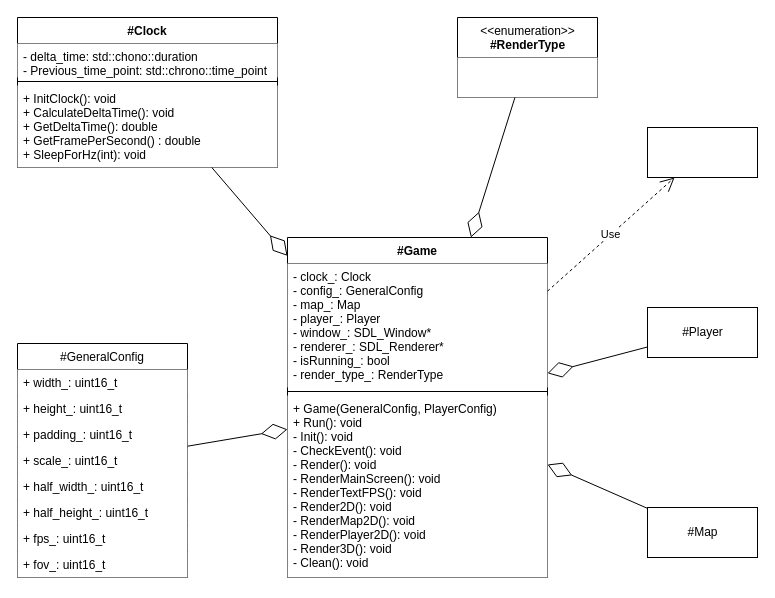
Some shapes in this 775 by 598 pixel diagram are drawn without their labels. The centre of each missing label's shape, as x and y in pixels:
#PlayerConfig: (x=702, y=152)
RENDER2D RENDER3D: (x=527, y=77)
